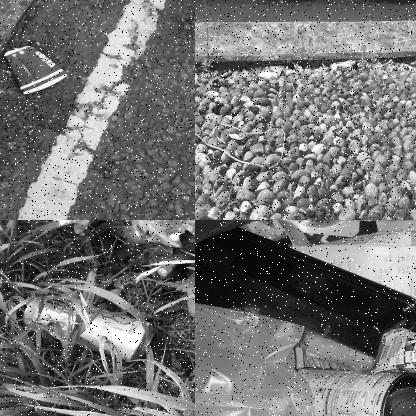metal: (277, 361, 415, 415)
plastic: (17, 295, 159, 365), (5, 44, 72, 99), (330, 58, 360, 74)
